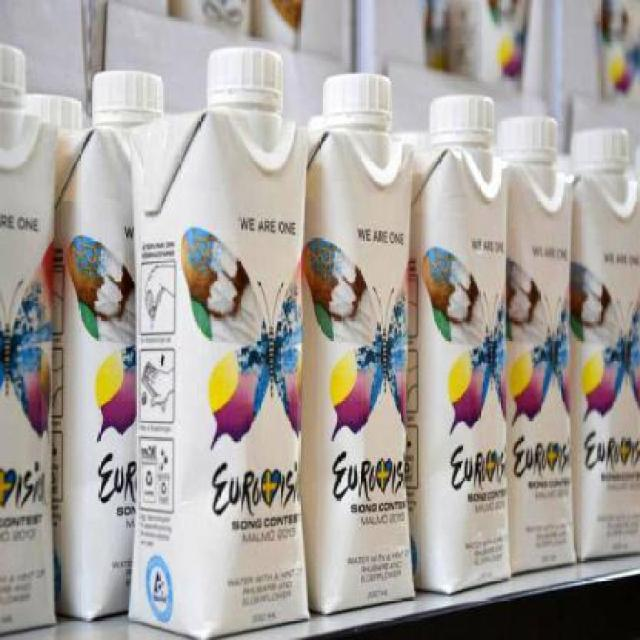tetra: (115, 30, 312, 639)
